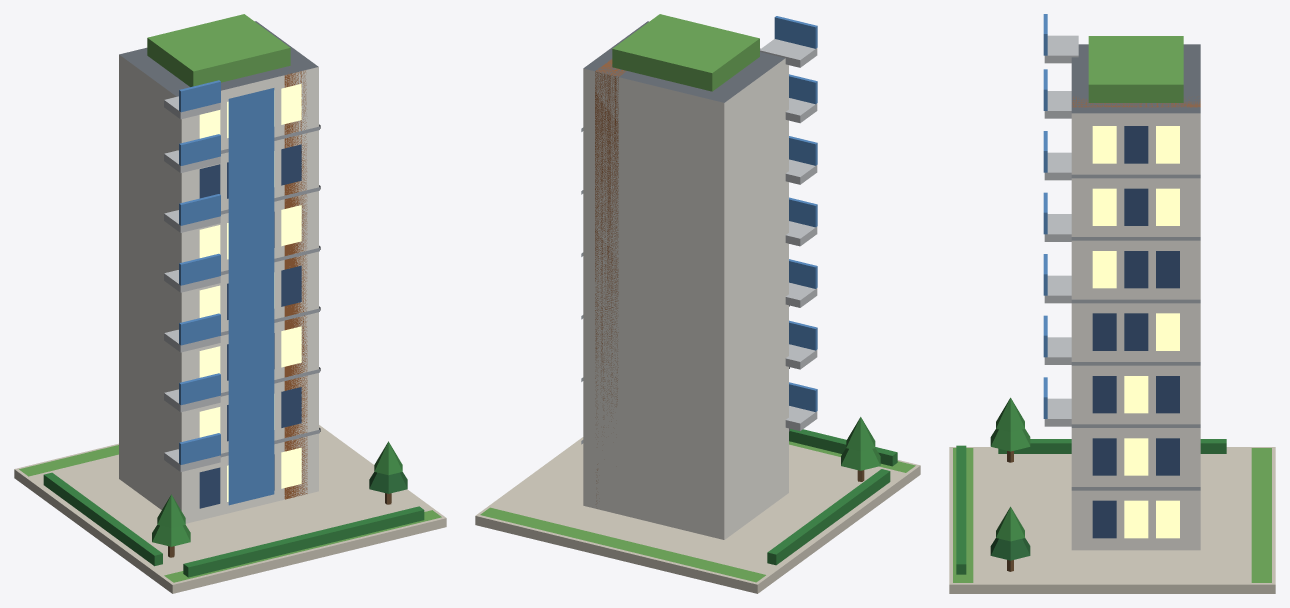
3 renders of one model, left to right at view 1: azimuth 30°, elevation 25°; view 2: azimuth 150°, elevation 25°; view 3: azimuth 270°, elevation 25°, orthographic. The views are drawn at different scales.
Visible parts, largest first — view 1: b10; view 2: b10; view 3: b10.
Part boxes in pixels (x1,y1,x2,y2): b10: (14,14,446,593); b10: (475,14,920,593); b10: (949,14,1275,593).
Bounding box in the file's own units: 0.96 × 1.52 × 0.96.
